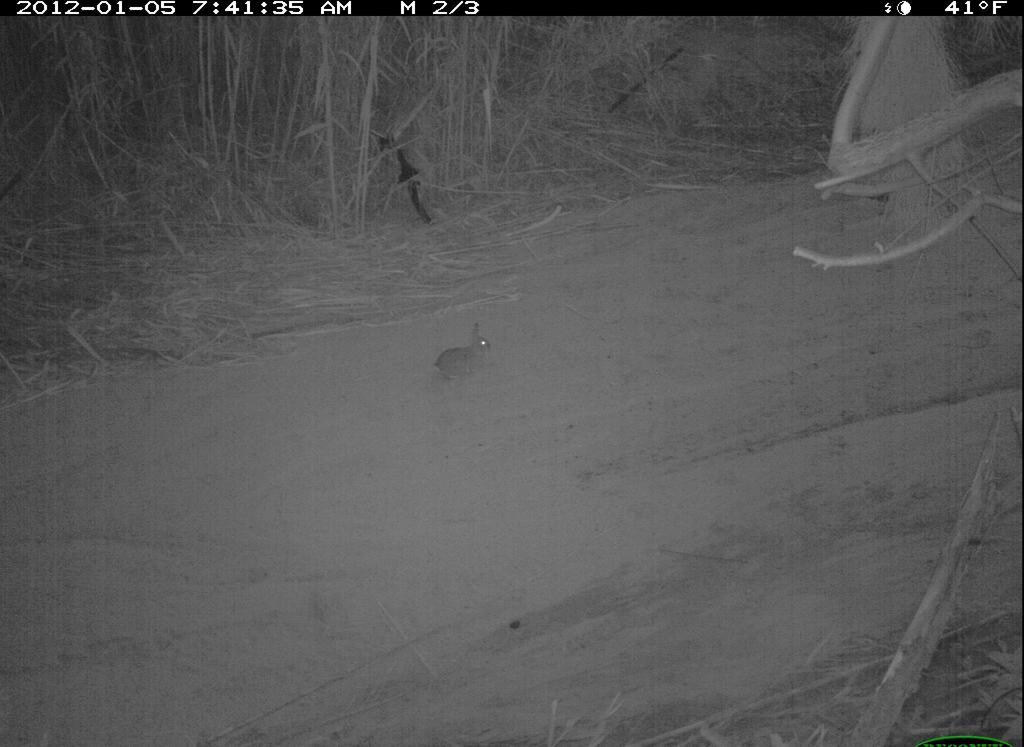rabbit: (425, 317, 519, 406)
